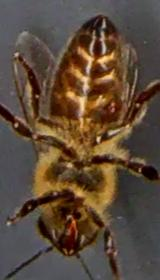varroa_mite: (104, 94, 122, 123)
